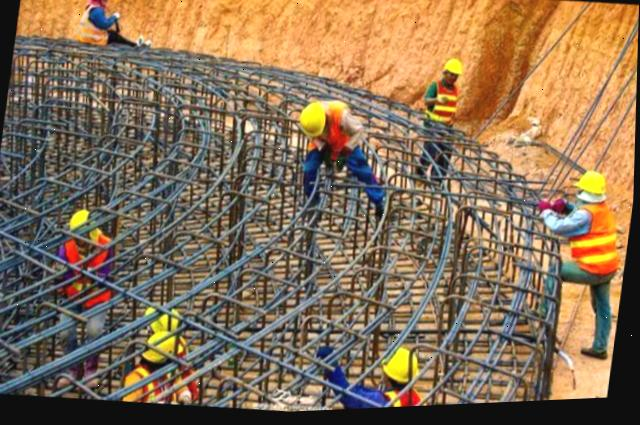helmet: (383, 348, 430, 387), (140, 330, 190, 365), (296, 105, 330, 143), (143, 303, 187, 331), (573, 174, 611, 204), (68, 207, 107, 232), (440, 56, 468, 79), (91, 0, 117, 3)
vest: (563, 199, 633, 283), (58, 231, 119, 310), (129, 362, 197, 409), (307, 102, 355, 161), (71, 1, 120, 53), (424, 80, 464, 137), (379, 384, 435, 411), (171, 326, 194, 365)
